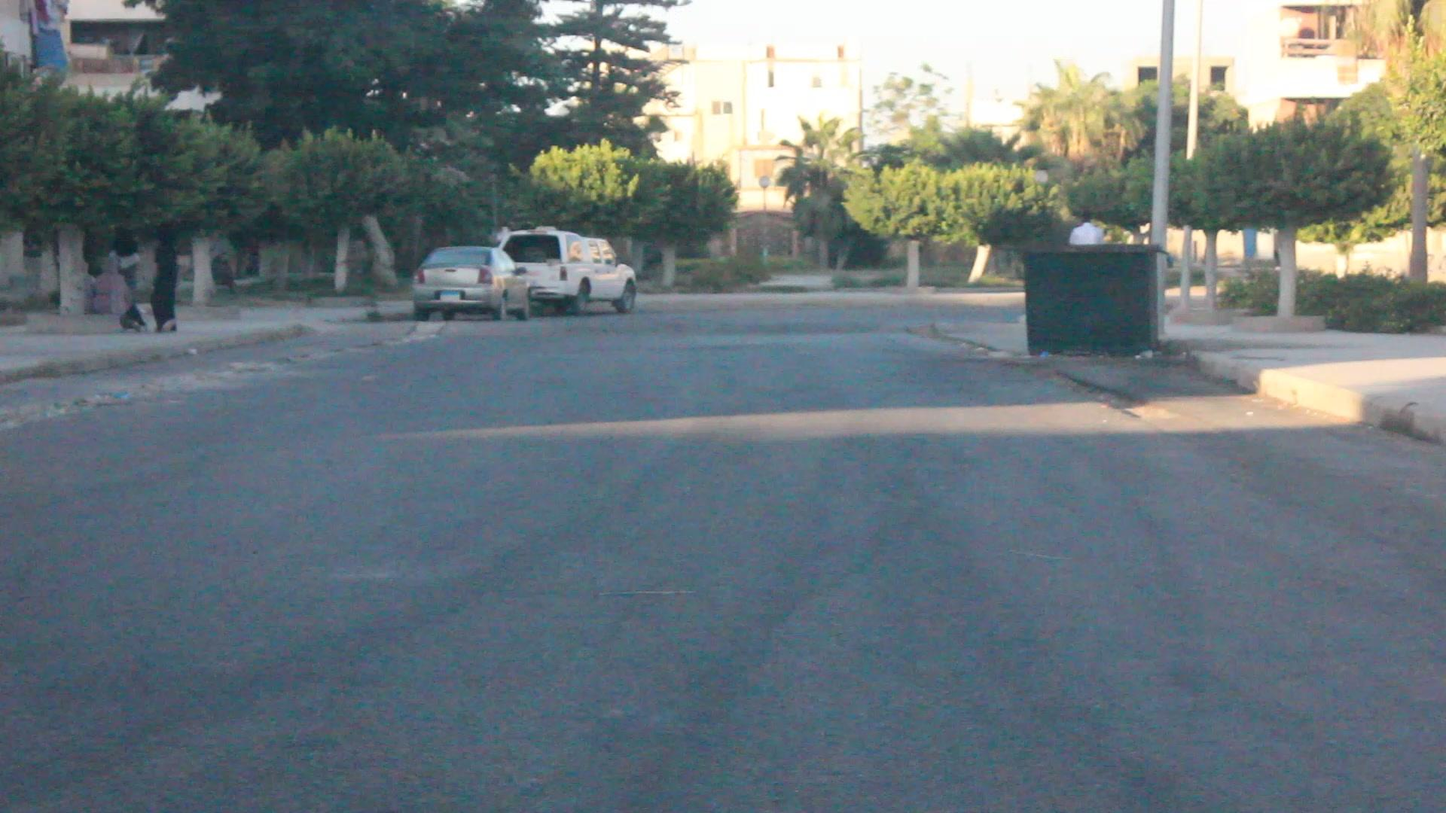Bump: (420, 320, 951, 339)
